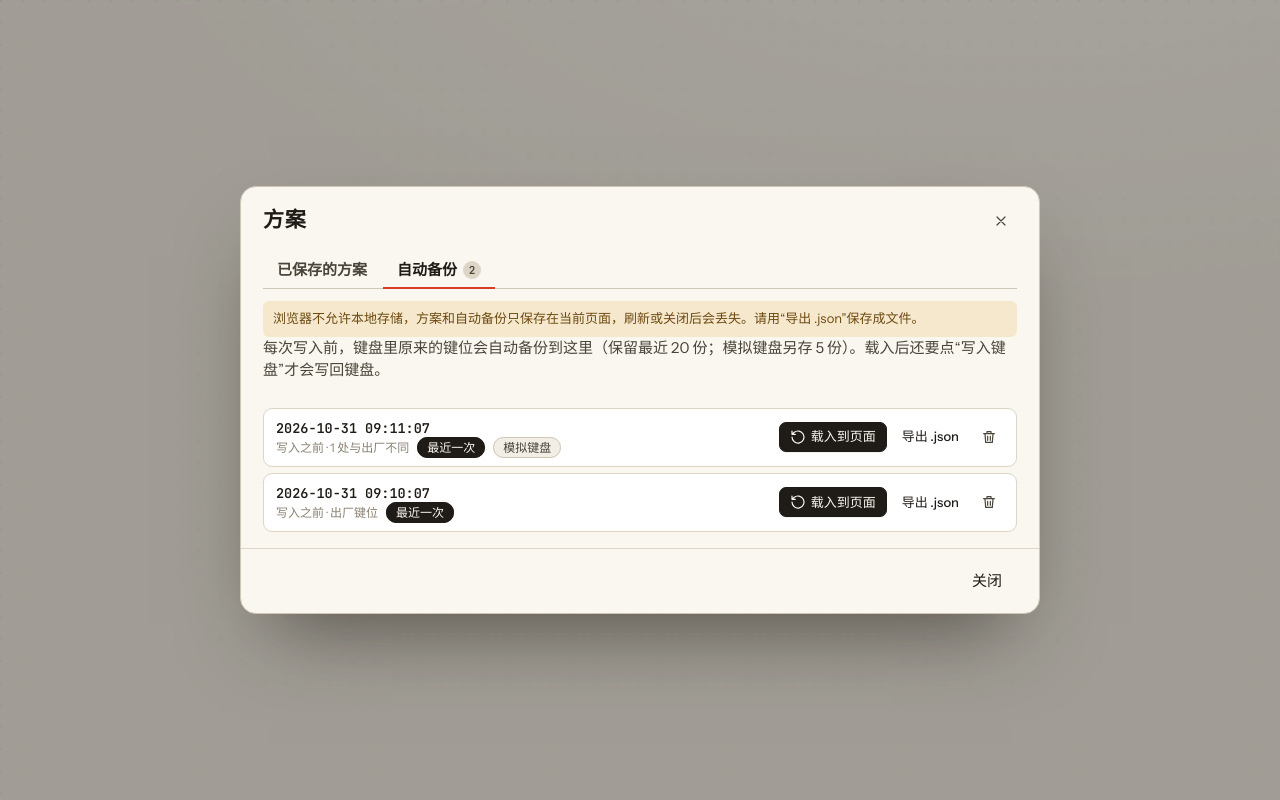
it: ProfilesDialog › marks simulator backups and the newest backup of each kind, and keeps focus on the tab after a delete
Expected: the text "模拟键盘" is shown, x1=493 y1=437 x2=561 y2=458
Expected: the text "最近一次" next to "· 1 处与出厂不同" is shown, x1=427 y1=440 x2=475 y2=455
Step 1. Click the button named "删除 2026-10-31 09:10:07 的备份" → point(989, 502), box x1=974 y1=487 x2=1004 y2=517
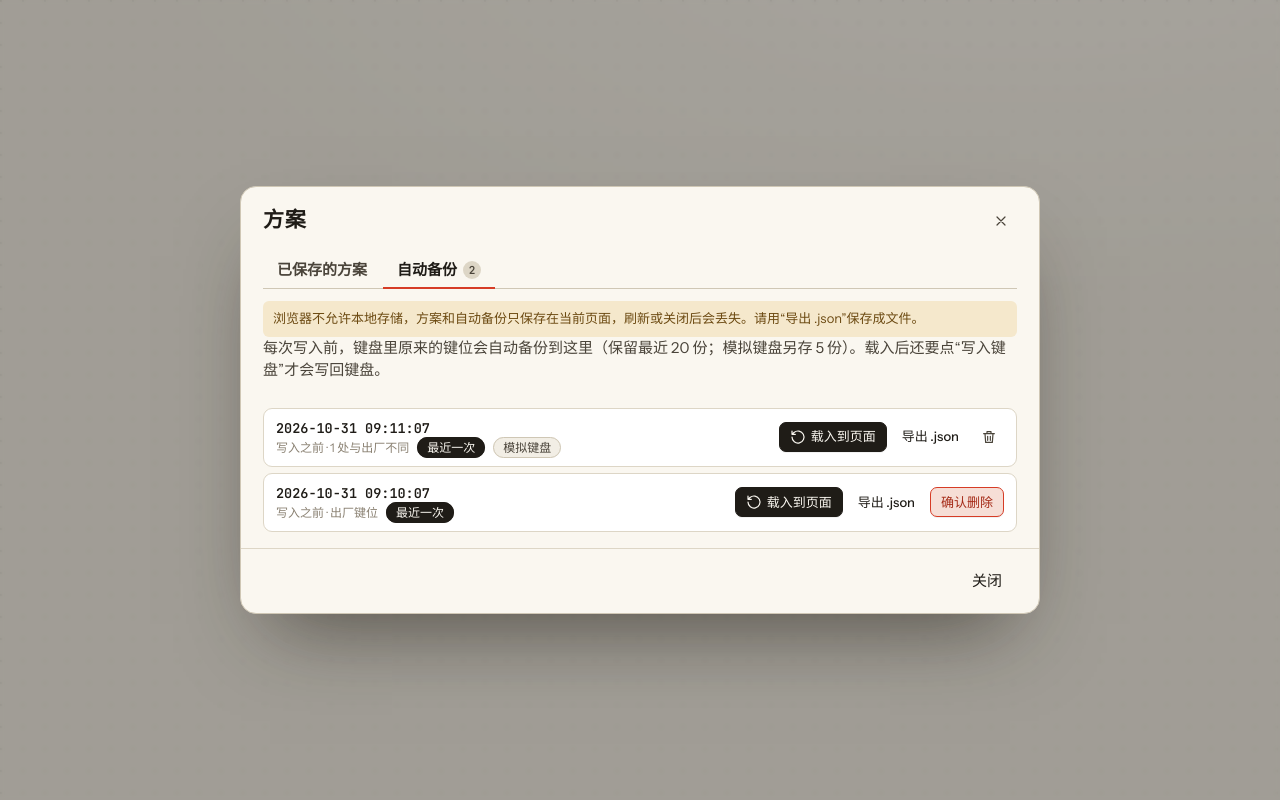
Step 2. Click the button "确认删除" → point(967, 502), box x1=930 y1=487 x2=1004 y2=517
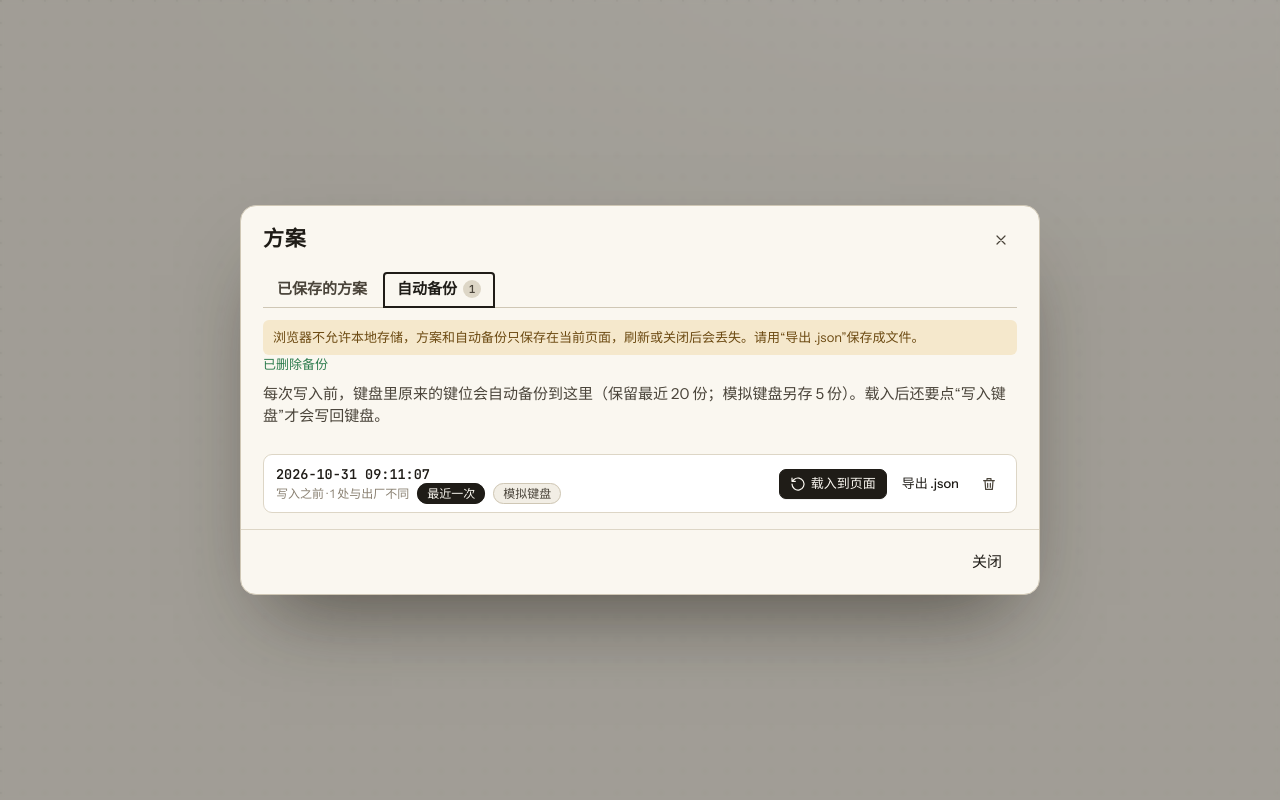
Result: the number of list items is 1 at x1=263 y1=454 x2=1017 y2=513
